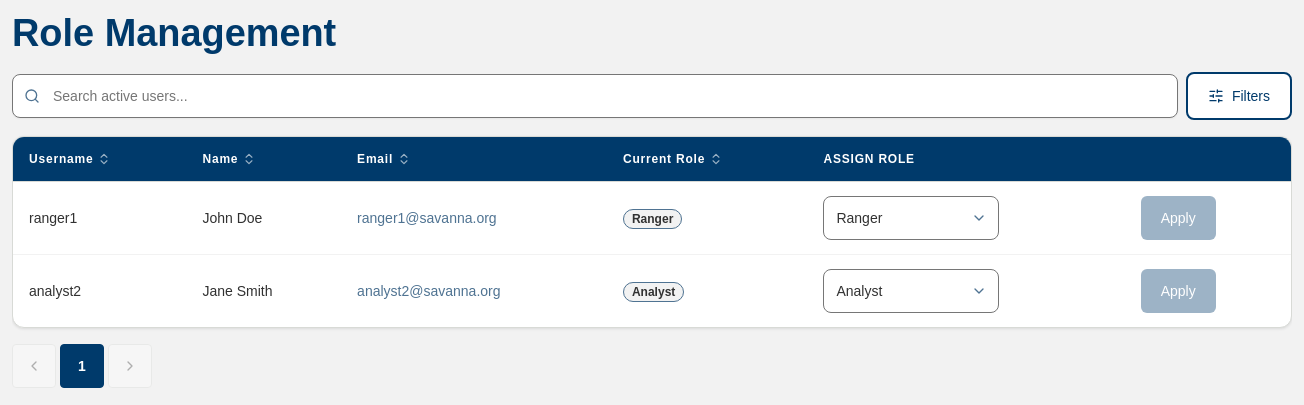
RoleSwap - Role Management › apply button enables after selecting a different role
Expected: the text "ranger1" is shown, x1=13 y1=181 x2=186 y2=254
Select "Analyst" in the dropdown in the row of "John Doe": [911, 218] box x1=823 y1=196 x2=999 y2=240
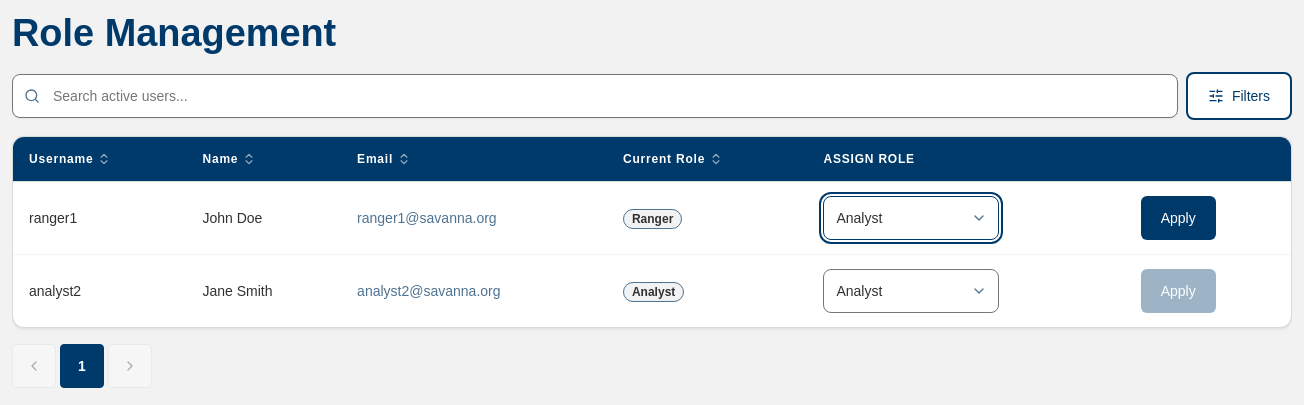
Expected: the button "Apply" in the row of "John Doe" is enabled, x1=1139 y1=194 x2=1218 y2=242
